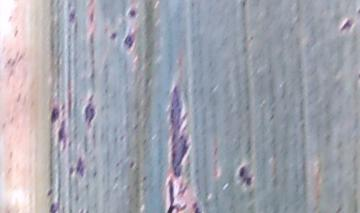tarspot: (164, 81, 191, 177), (162, 177, 181, 213), (237, 163, 254, 191), (83, 93, 97, 126), (56, 119, 69, 152), (69, 156, 85, 180), (48, 104, 60, 126), (123, 32, 134, 51), (342, 19, 355, 34), (68, 8, 77, 27), (46, 200, 58, 213), (127, 7, 137, 20), (45, 188, 55, 199), (109, 30, 118, 41)
